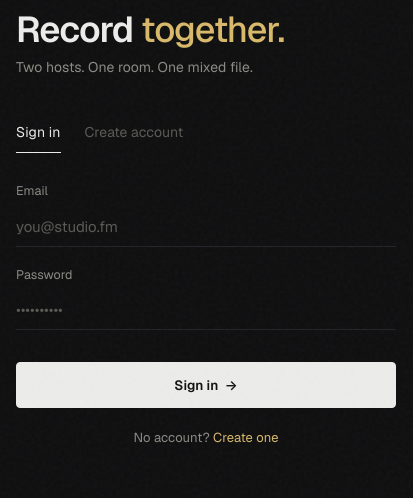
Test: LoginView › shows error when submitting empty form
Click the button "Sign in →" at (206,385), box [16,362,396,408]
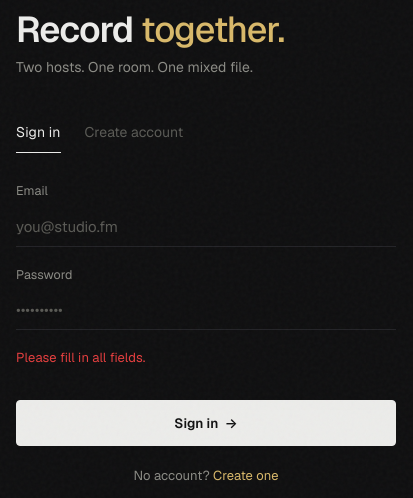
Check: the message shows "fill", box [16,349,146,366]
